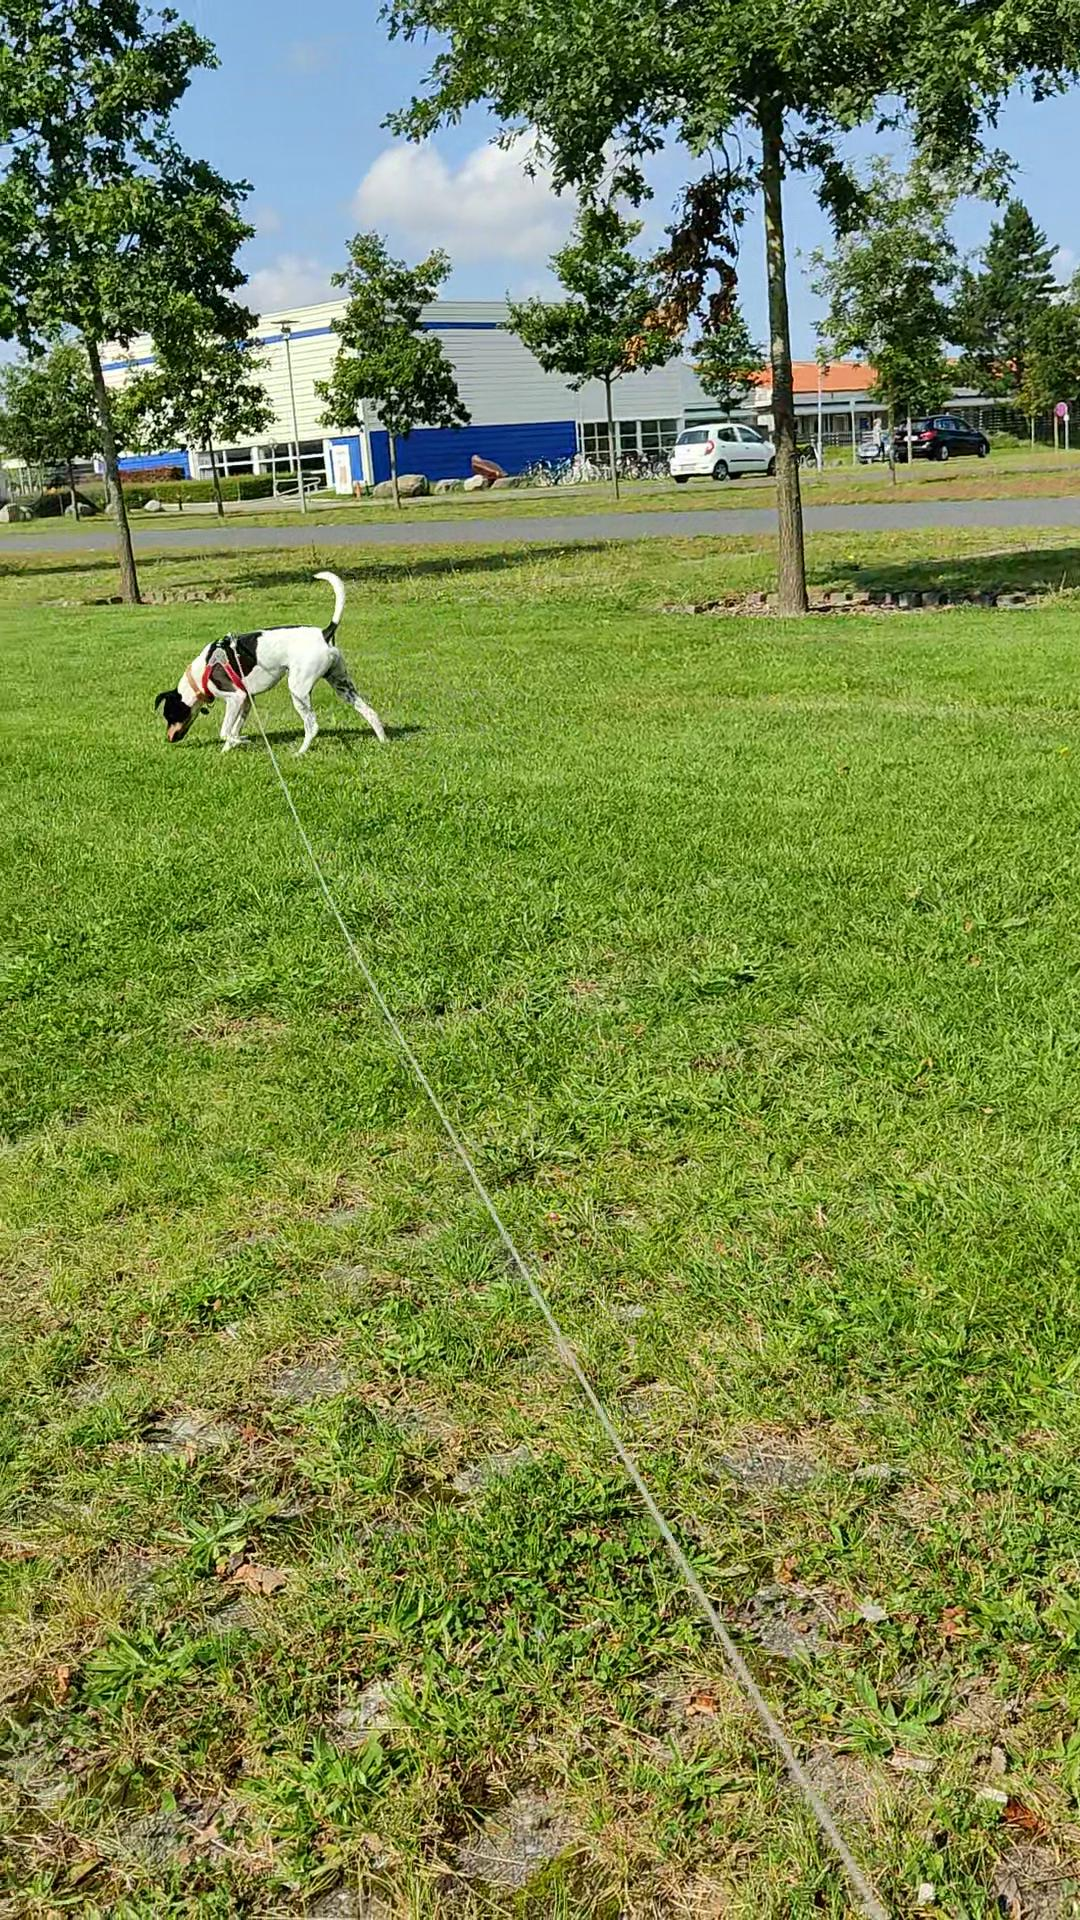Dog: (146, 566, 396, 756)
